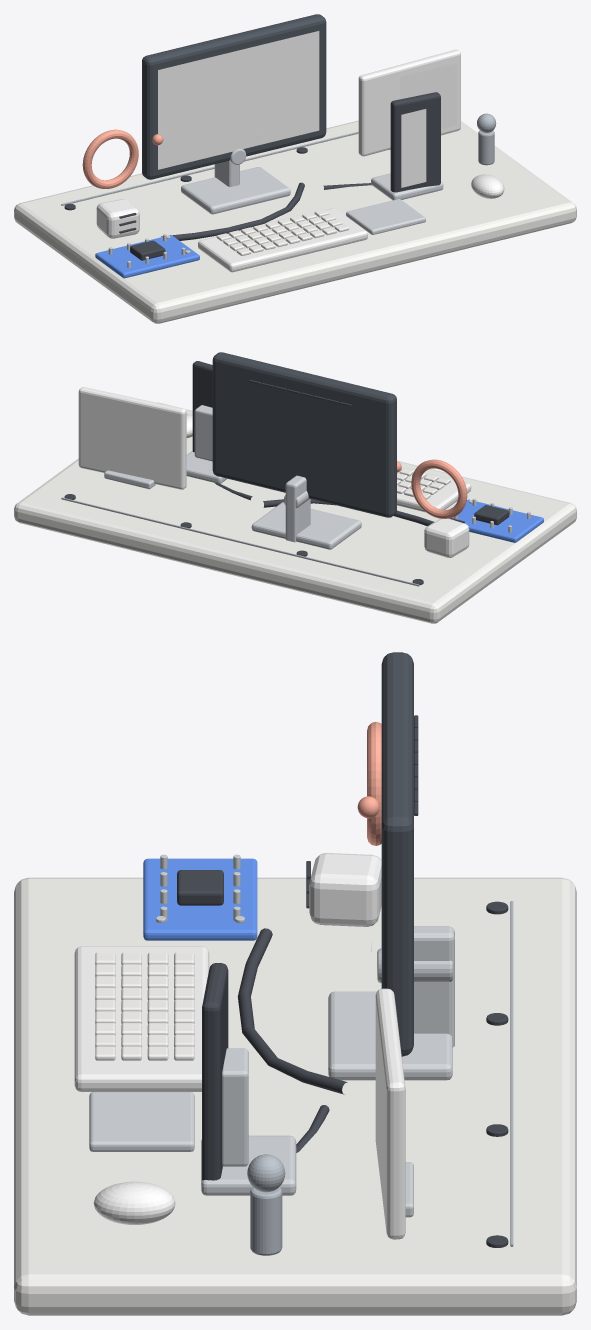
File: prototype.glb
3 renders of one model, top to bottom at view 1: azimuth 30°, elevation 25°; view 2: azimuth 150°, elevation 25°; view 3: azimuth 270°, elevation 25°, orthographic. The views are drawn at different scales.
Visible parts, largest first — view 1: PRO_test_bench, SCREEN_prototype_monitor, PRO_monitor_frame, PRO_tablet_frame, PRO_keyboard, PRO_phone_frame, PRO_monitor_foot, PRO_esp32_board, SCREEN_prototype_tablet, SCREEN_prototype_phone, PRO_trackpad, PRO_light_ring (+8 smaller); view 2: PRO_test_bench, PRO_monitor_frame, PRO_tablet_frame, PRO_monitor_foot, PRO_esp32_board, PRO_sensor, PRO_light_ring, PRO_monitor_stem, PRO_phone_frame, PRO_keyboard, PRO_bench_seam, PRO_phone_backrail (+4 smaller); view 3: PRO_test_bench, PRO_monitor_frame, PRO_keyboard, PRO_esp32_board, PRO_tablet_frame, PRO_monitor_foot, PRO_trackpad, PRO_sensor, PRO_phone_frame, PRO_monitor_stem, PRO_phone_backrail, PRO_cable_main (+8 smaller).
Part boxes in pixels (<box>): PRO_test_bench: <box>14,120,576,323</box>; SCREEN_prototype_monitor: <box>158,31,319,169</box>; PRO_monitor_frame: <box>142,14,326,179</box>; PRO_tablet_frame: <box>358,49,460,156</box>; PRO_keyboard: <box>198,208,367,272</box>; PRO_phone_frame: <box>390,92,440,192</box>; PRO_monitor_foot: <box>181,167,290,214</box>; PRO_esp32_board: <box>95,235,199,278</box>; SCREEN_prototype_tablet: <box>400,63,456,128</box>; SCREEN_prototype_phone: <box>401,109,426,187</box>; PRO_trackpad: <box>346,199,425,234</box>; PRO_light_ring: <box>82,129,138,188</box>; PRO_test_bench: <box>14,402,576,623</box>; PRO_monitor_frame: <box>212,352,396,517</box>; PRO_tablet_frame: <box>78,387,186,489</box>; PRO_monitor_foot: <box>251,502,361,549</box>; PRO_esp32_board: <box>452,499,543,542</box>; PRO_sensor: <box>424,518,469,557</box>; PRO_light_ring: <box>411,459,467,518</box>; PRO_monitor_stem: <box>285,475,310,542</box>; PRO_phone_frame: <box>192,361,212,452</box>; PRO_keyboard: <box>397,467,471,512</box>; PRO_bench_seam: <box>61,497,419,586</box>; PRO_phone_backrail: <box>194,405,212,461</box>; PRO_test_bench: <box>14,877,576,1315</box>; PRO_monitor_frame: <box>381,652,413,1056</box>; PRO_keyboard: <box>74,946,209,1091</box>; PRO_esp32_board: <box>143,858,257,940</box>; PRO_tablet_frame: <box>375,988,405,1239</box>; PRO_monitor_foot: <box>328,991,452,1080</box>; PRO_trackpad: <box>89,1092,194,1151</box>; PRO_sensor: <box>309,853,381,926</box>; PRO_phone_frame: <box>202,963,228,1180</box>; PRO_monitor_stem: <box>414,926,454,1047</box>; PRO_phone_backrail: <box>222,1048,248,1166</box>; PRO_cable_main: <box>237,928,347,1094</box>.
Bounding box in the file's own units: 6.6 × 2.62 × 3.85.
